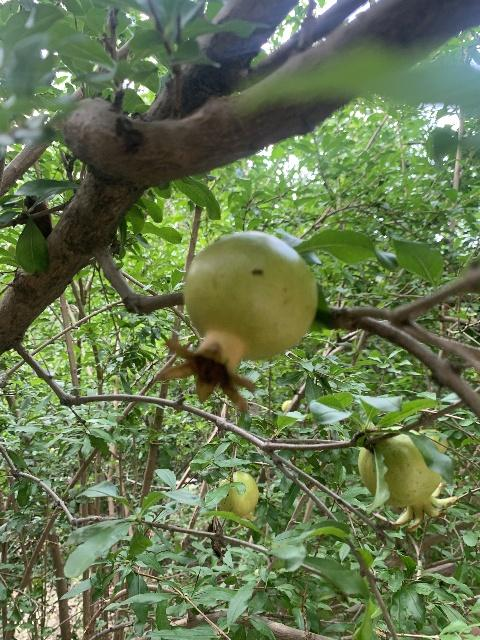mid-growth: (159, 231, 319, 411), (357, 425, 458, 533), (213, 470, 260, 531)
